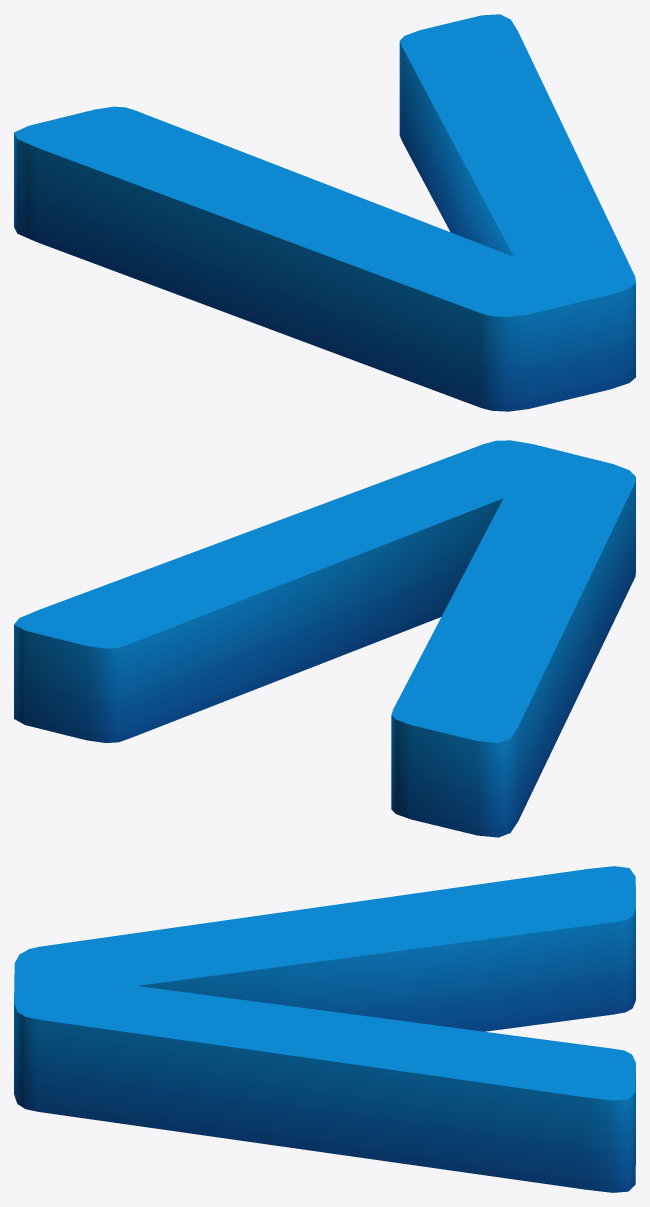
The model's file is letter_V.fbx.
3 views of the same model, one above another, from view 1: azimuth 30°, elevation 25°; view 2: azimuth 150°, elevation 25°; view 3: azimuth 270°, elevation 25° (orthographic). The views are drawn at different scales.
Visible parts, largest first — view 1: letter_V; view 2: letter_V; view 3: letter_V.
Part boxes in pixels (box(x1,y1,x2,y2)): letter_V: box(14, 14, 635, 411); letter_V: box(14, 440, 635, 837); letter_V: box(14, 866, 635, 1192).
Bounding box in the file's own units: 20.44 × 3.75 × 22.91.
